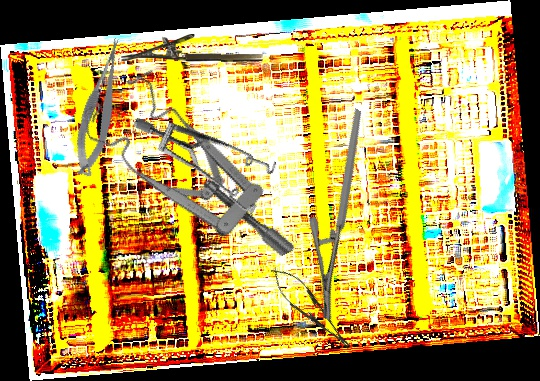Micro Scissor: (62, 35, 140, 180)
Needle Holder: (261, 108, 425, 322), (263, 260, 360, 358), (120, 32, 264, 64)
Speculum: (74, 47, 296, 310), (131, 70, 293, 244)
